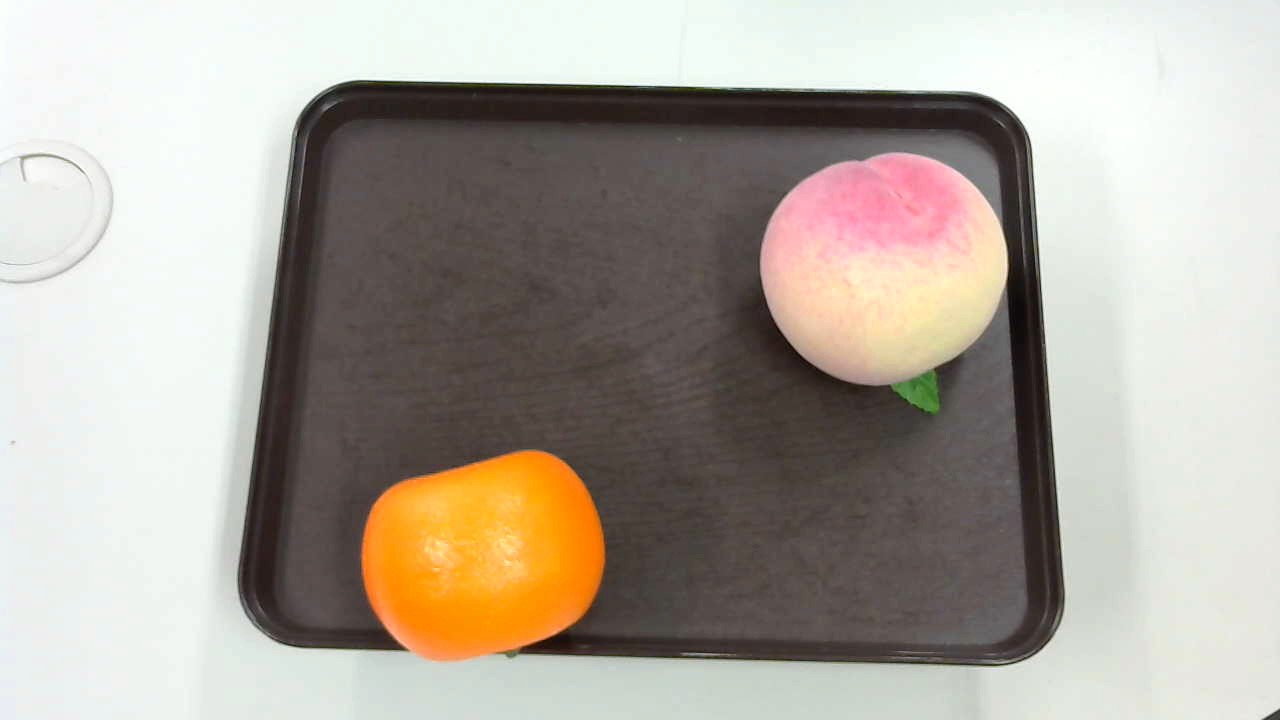orange: (359, 448, 605, 656)
peach: (756, 148, 1014, 411)
